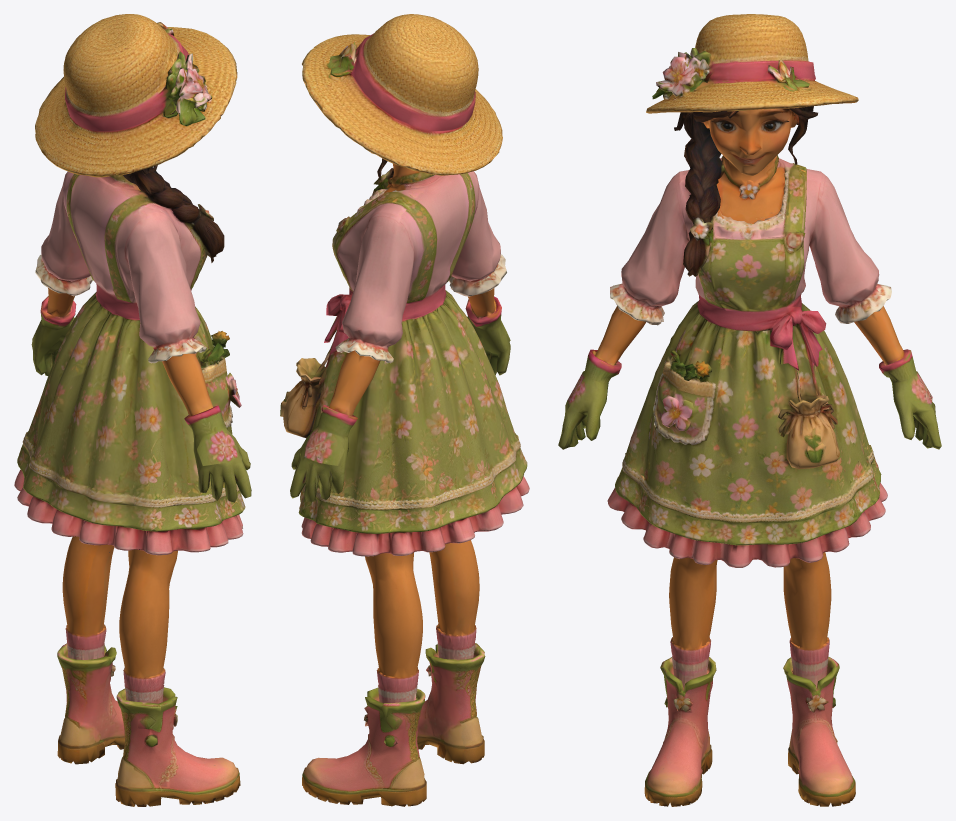
Rendered from Girl.glb.
3 views of the same model, side by side, from view 1: azimuth 30°, elevation 25°; view 2: azimuth 150°, elevation 25°; view 3: azimuth 270°, elevation 25° (orthographic).
Parts seen in each view (by area): view 1: tripo_node_2b2ada6d-a199-4777-a017-305db2ed28ac; view 2: tripo_node_2b2ada6d-a199-4777-a017-305db2ed28ac; view 3: tripo_node_2b2ada6d-a199-4777-a017-305db2ed28ac.
Part boxes in pixels (x1,y1,x2,y2): tripo_node_2b2ada6d-a199-4777-a017-305db2ed28ac: [14, 14, 251, 806]; tripo_node_2b2ada6d-a199-4777-a017-305db2ed28ac: [280, 14, 529, 806]; tripo_node_2b2ada6d-a199-4777-a017-305db2ed28ac: [558, 14, 941, 806].
Size of the model in its own units: 0.2663 by 0.9796 by 0.4465.
Materials: 1 (1 with a texture image).
